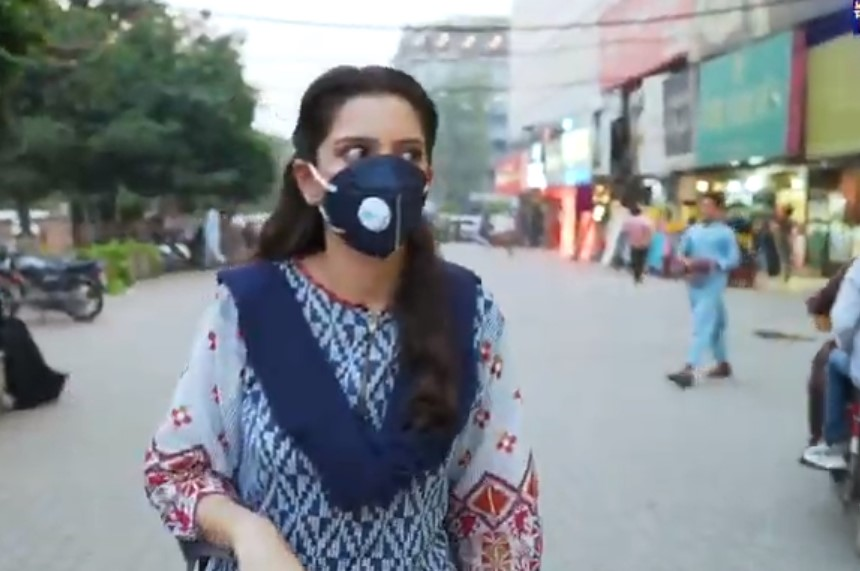face_with_mask: (300, 76, 440, 268)
